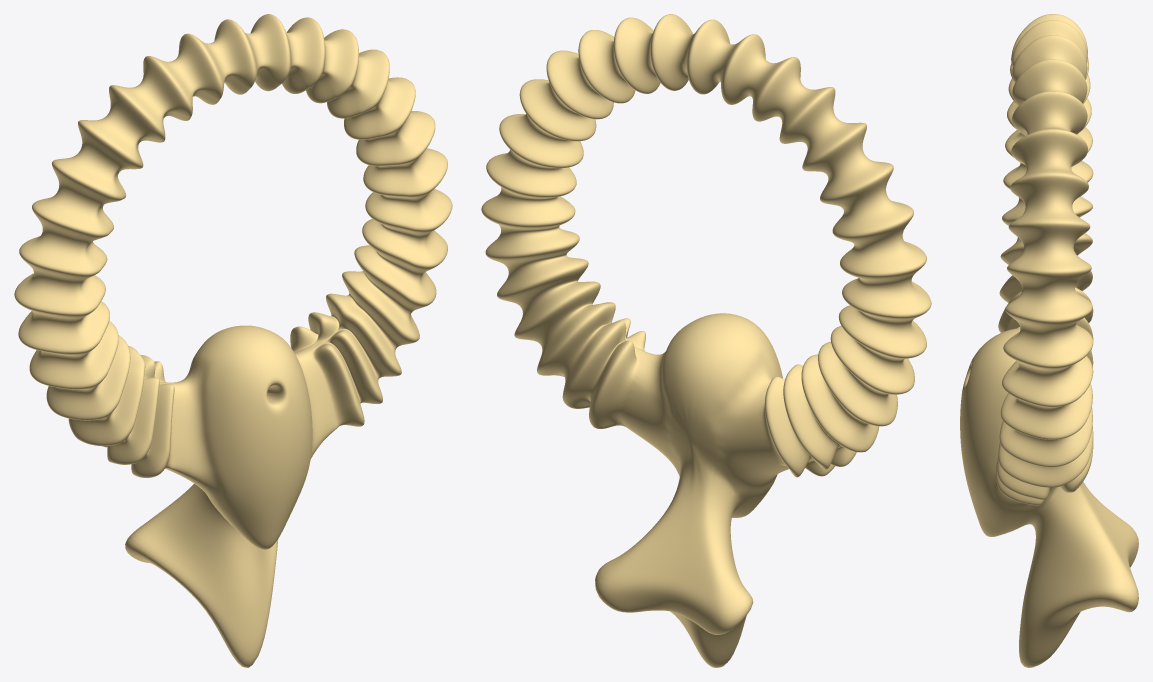
File: satori-2.glb
The picture shows the model from 3 angles, left to right: view 1: azimuth 30°, elevation 25°; view 2: azimuth 150°, elevation 25°; view 3: azimuth 270°, elevation 25°; orthographic projection. The views are drawn at different scales.
Parts seen in each view (by area): view 1: Box3077; view 2: Box3077; view 3: Box3077.
Boxes of the visible parts, box(x1,y1,x2,y2) form: Box3077: box(14, 14, 452, 667); Box3077: box(481, 14, 931, 667); Box3077: box(960, 14, 1138, 667).
Bounding box in the file's own units: 0.0167 × 0.0236 × 0.00605.
